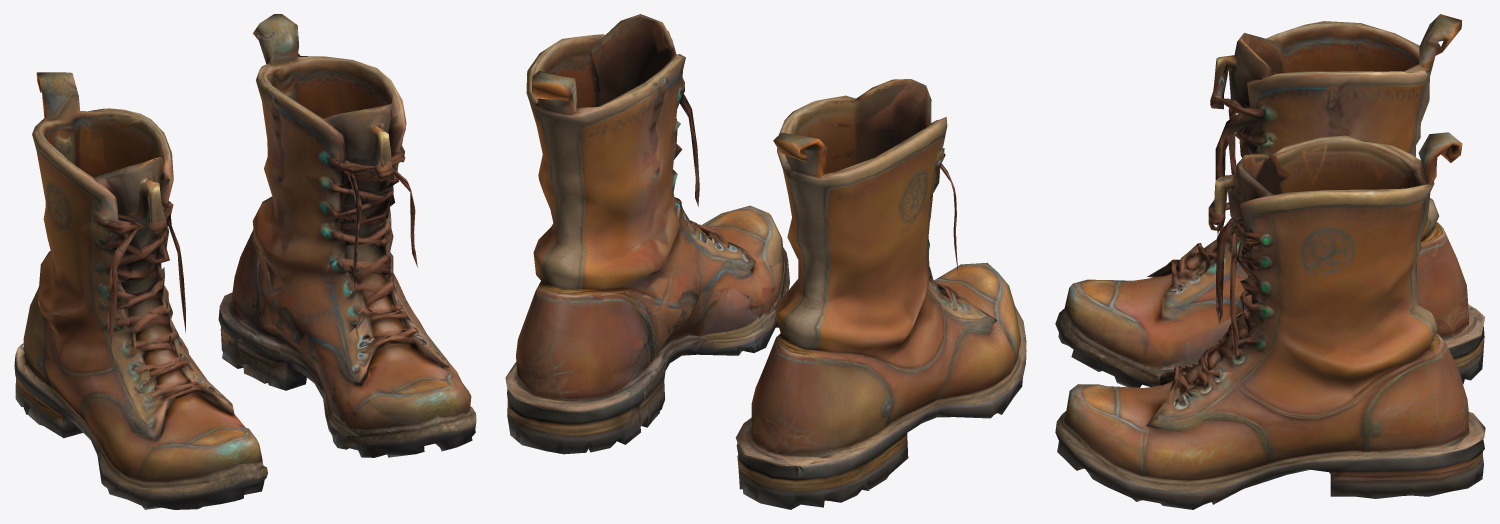
Rendered from sapogi.glb.
3 renders of one model, left to right at view 1: azimuth 30°, elevation 25°; view 2: azimuth 150°, elevation 25°; view 3: azimuth 270°, elevation 25°, orthographic. The views are drawn at different scales.
Size of the model in its own units: 1.98 by 1.75 by 1.99.
Materials: 1 (1 with a texture image).
